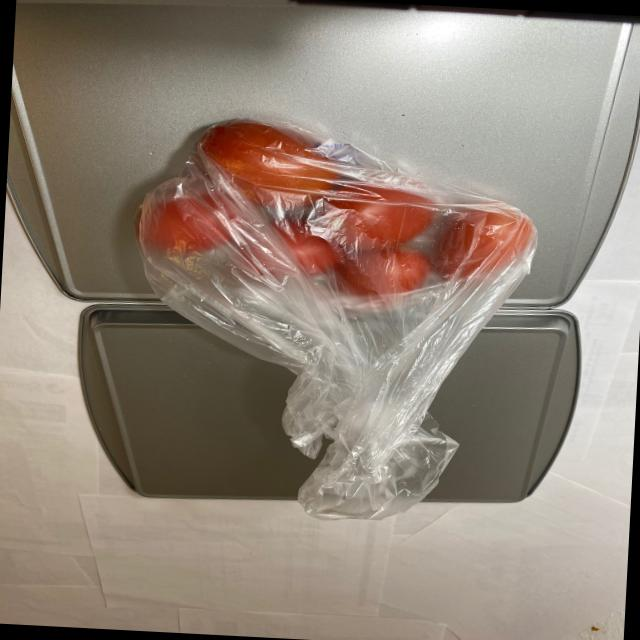tomato: (127, 115, 545, 306)
